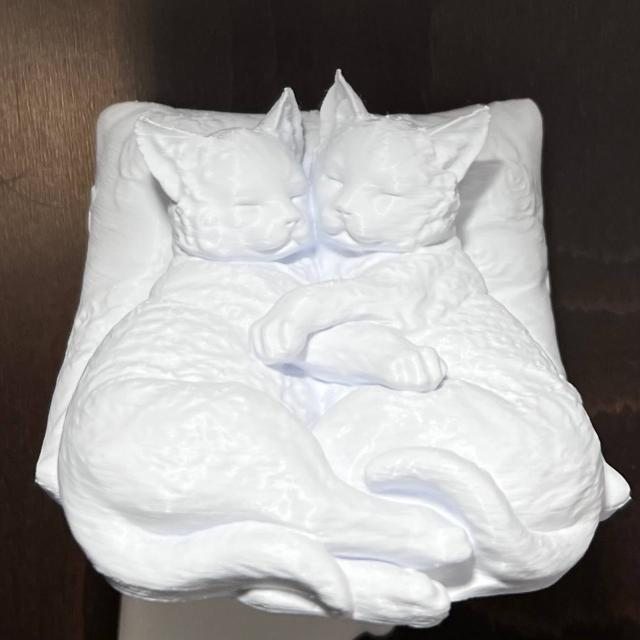Without deffect: (12, 76, 630, 636)
